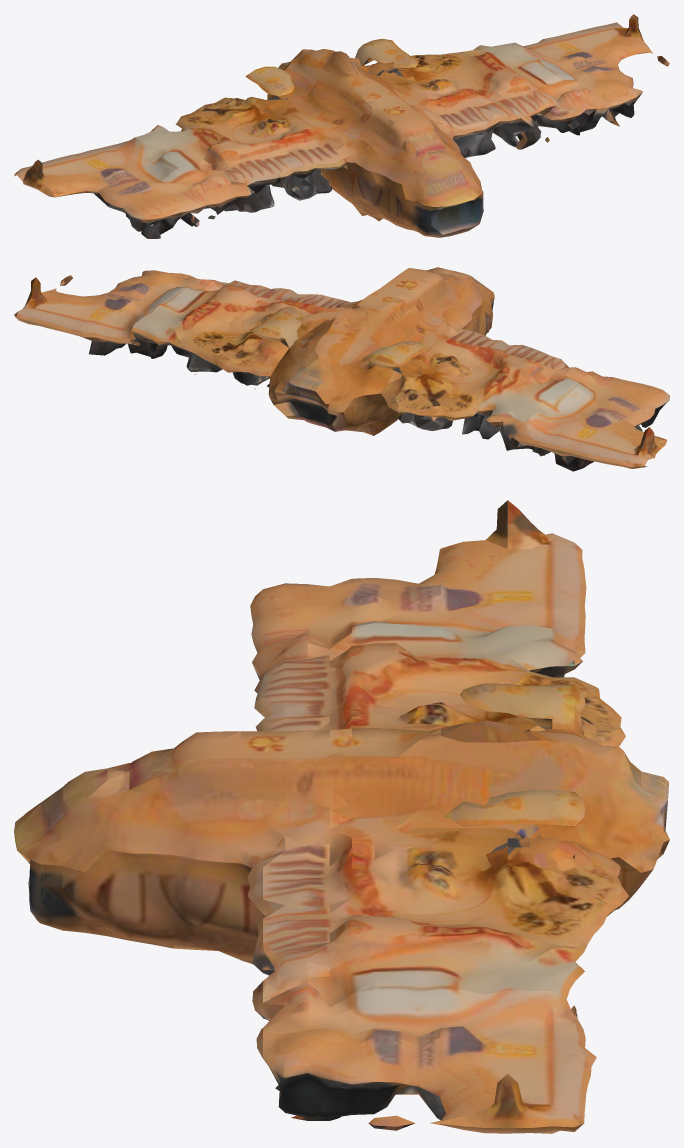
The model's file is AIArsenalBird.glb.
3 renders of one model, top to bottom at view 1: azimuth 30°, elevation 25°; view 2: azimuth 150°, elevation 25°; view 3: azimuth 270°, elevation 25°, orthographic. The views are drawn at different scales.
Parts seen in each view (by area): view 1: tmp_j0u1zr8.ply; view 2: tmp_j0u1zr8.ply; view 3: tmp_j0u1zr8.ply.
Boxes of the visible parts, left/top/right/bottom form: tmp_j0u1zr8.ply: left=14, top=14, right=669, bottom=238; tmp_j0u1zr8.ply: left=14, top=267, right=669, bottom=471; tmp_j0u1zr8.ply: left=14, top=500, right=669, bottom=1133.
Bounding box in the file's own units: 1.94 × 0.3719 × 0.9161.
1 material, 1 textured.
